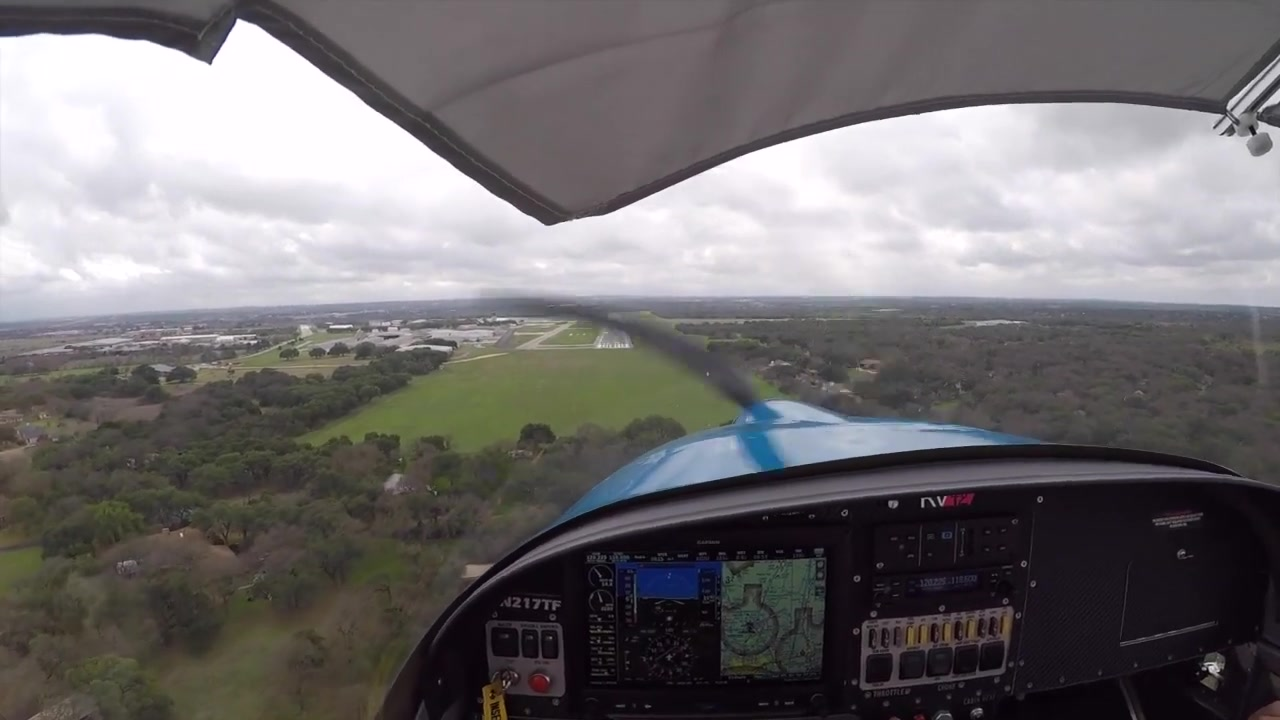entrance: (597, 343, 632, 348)
runway: (595, 317, 634, 350)
